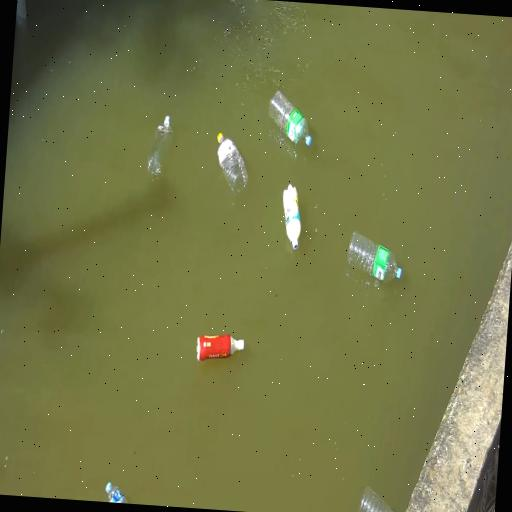plastic: (348, 232, 401, 282), (269, 90, 311, 146), (217, 133, 248, 195), (148, 116, 172, 180), (197, 335, 244, 361), (283, 184, 301, 250), (358, 487, 392, 511), (105, 483, 127, 503)
